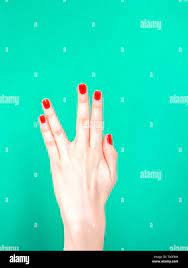LiveLong: (39, 83, 117, 214)
